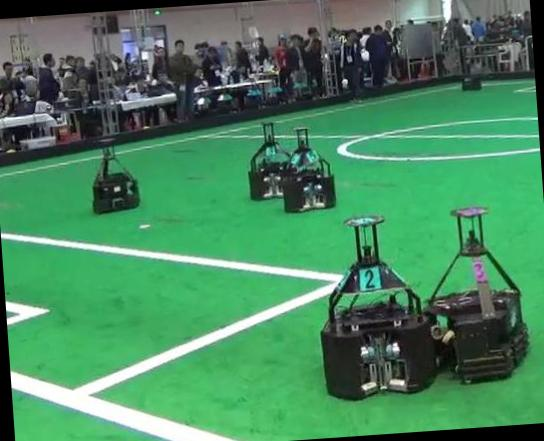robot: (321, 215, 438, 399), (424, 206, 529, 382), (283, 127, 335, 211), (92, 145, 139, 213), (249, 122, 290, 198), (463, 64, 482, 89)
